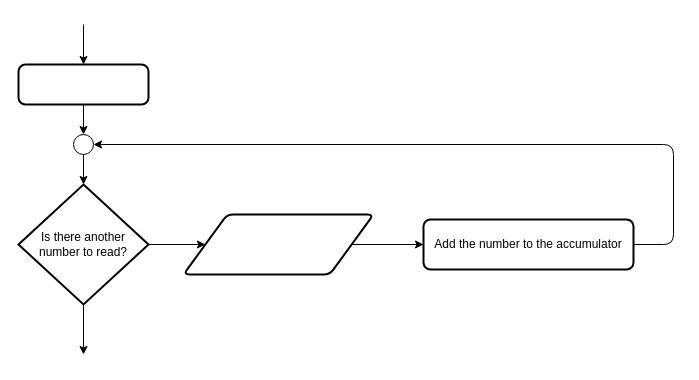
The diagram is 699 pixels wide and 380 high, and some of its shapes have lost their labels. The shapes that lost their labels are listed below. From the top down, each one's box as (x1, y1, x2, y2) in pixels, then its label:
(17, 63, 149, 105): Set accumulator to 0
(182, 213, 374, 275): Read the next number
